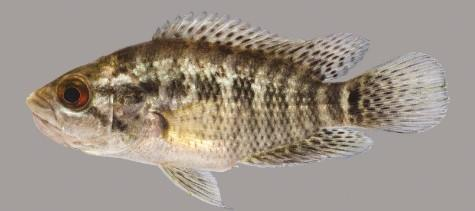Jaguar Gapote: (29, 11, 450, 211)
